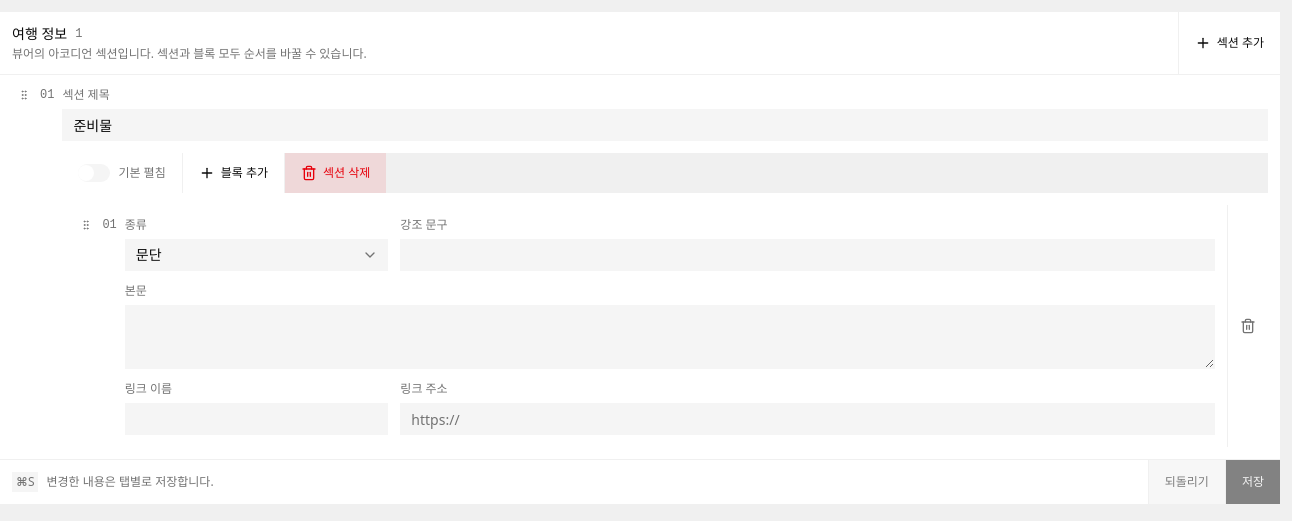
Scenario: InfoSectionsForm › 섹션을 지우면 빈 안내를 보여 준다
Step 1. Click the button "섹션 삭제" → click(336, 173), box [285, 153, 386, 193]
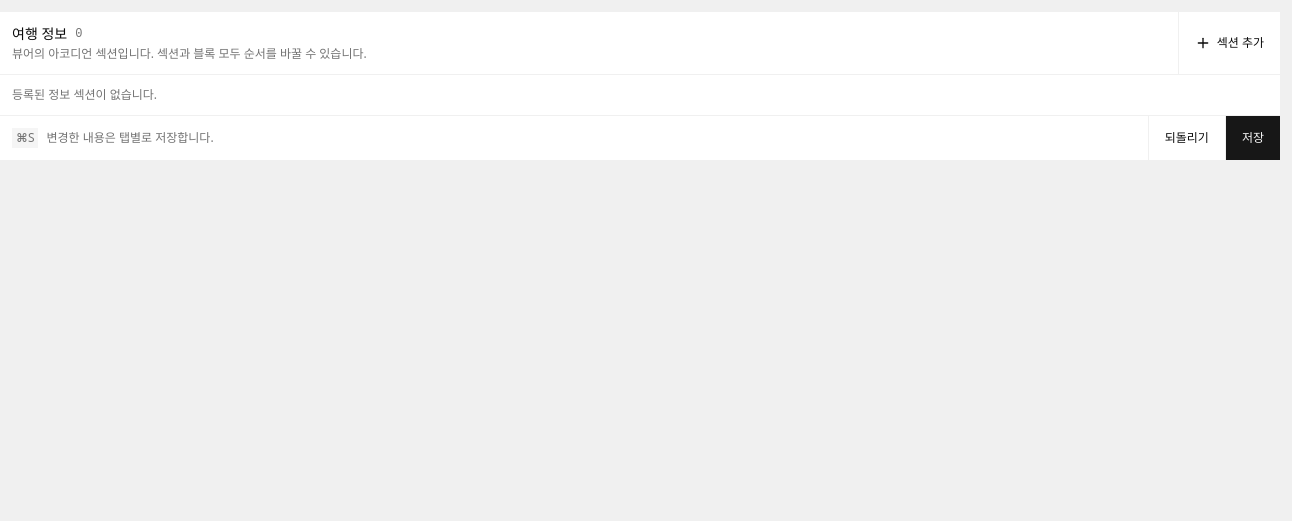
Check: the text "등록된 정보 섹션이 없습니다." is shown, box [0, 75, 1280, 115]
